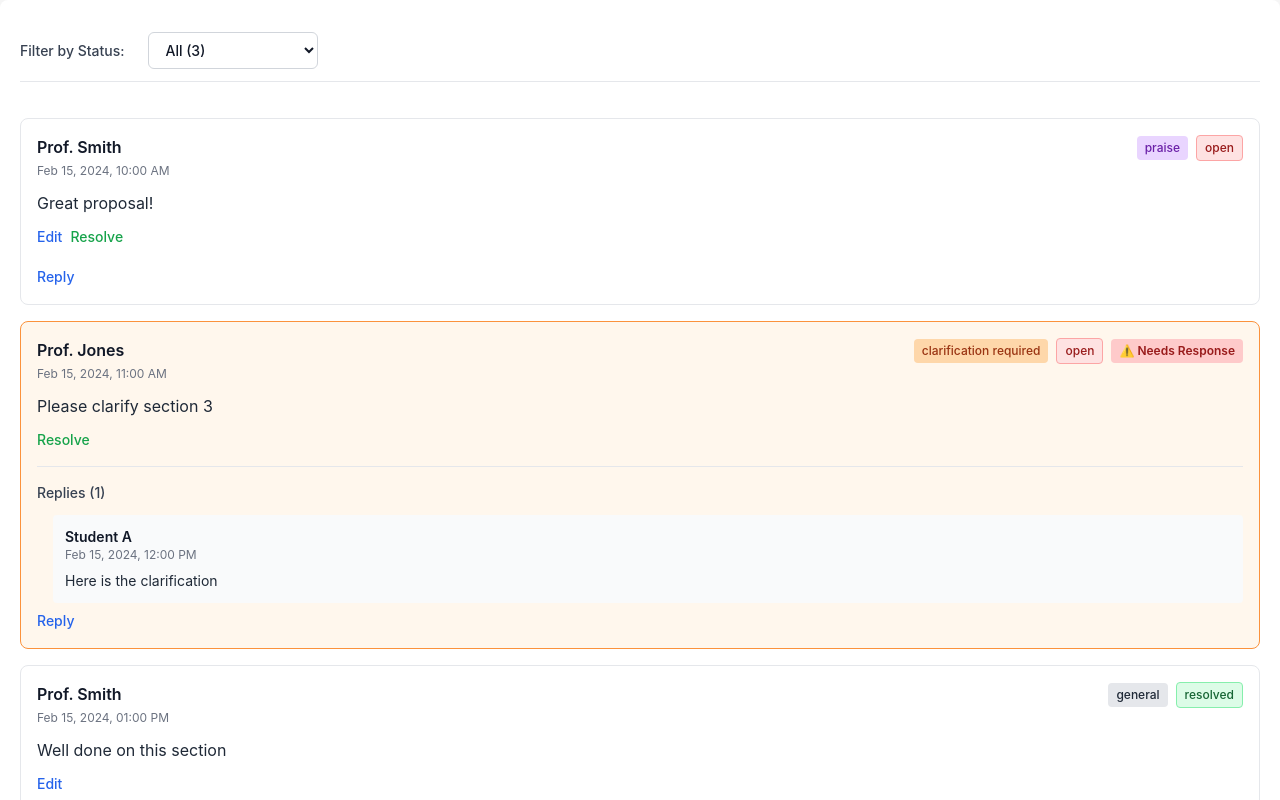
Test: CommentThread › Filter by Status › resolved filter shows only resolved comments
Select "Resolved (1)" in the dropdown named "filter comments by status" at (234, 50), box [148,32,318,69]
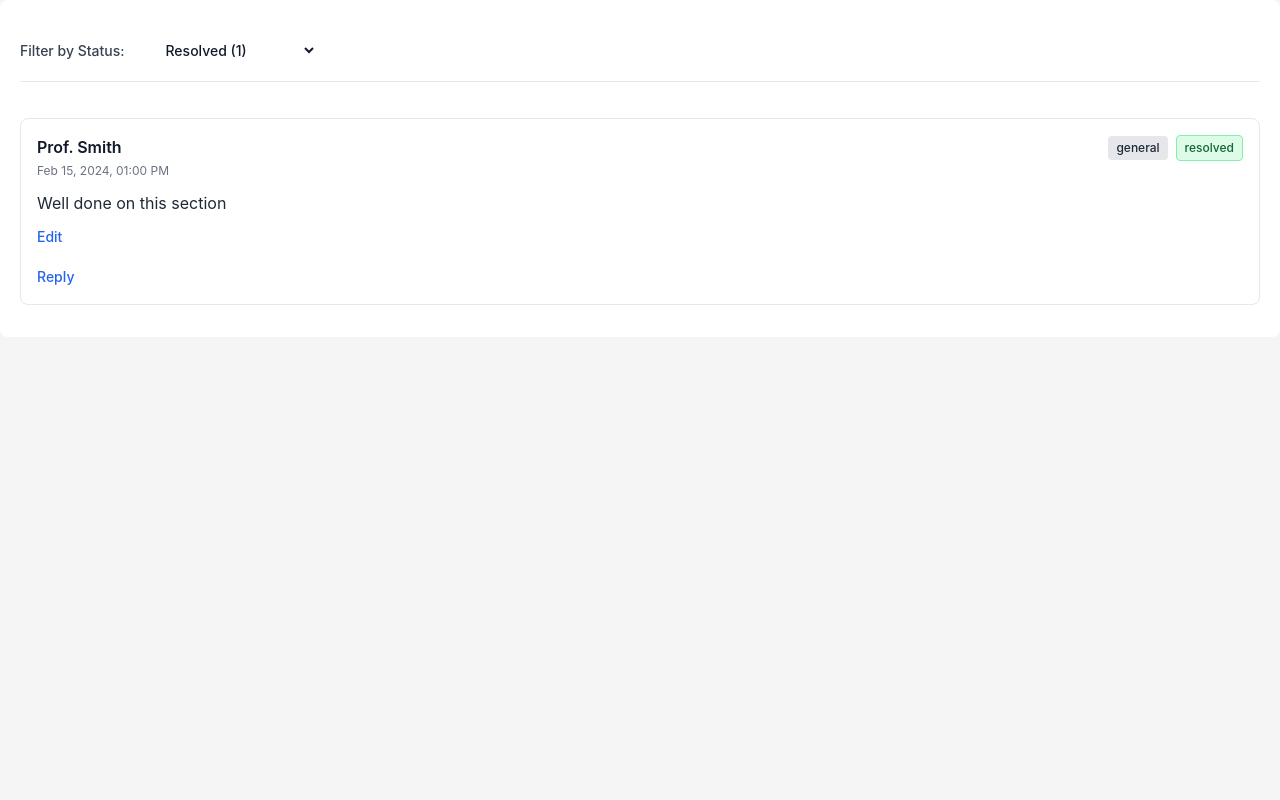
Expected: the text "Well done on this section" is shown, [37,193,226,213]
Now the text "Great proposal!" is gone
